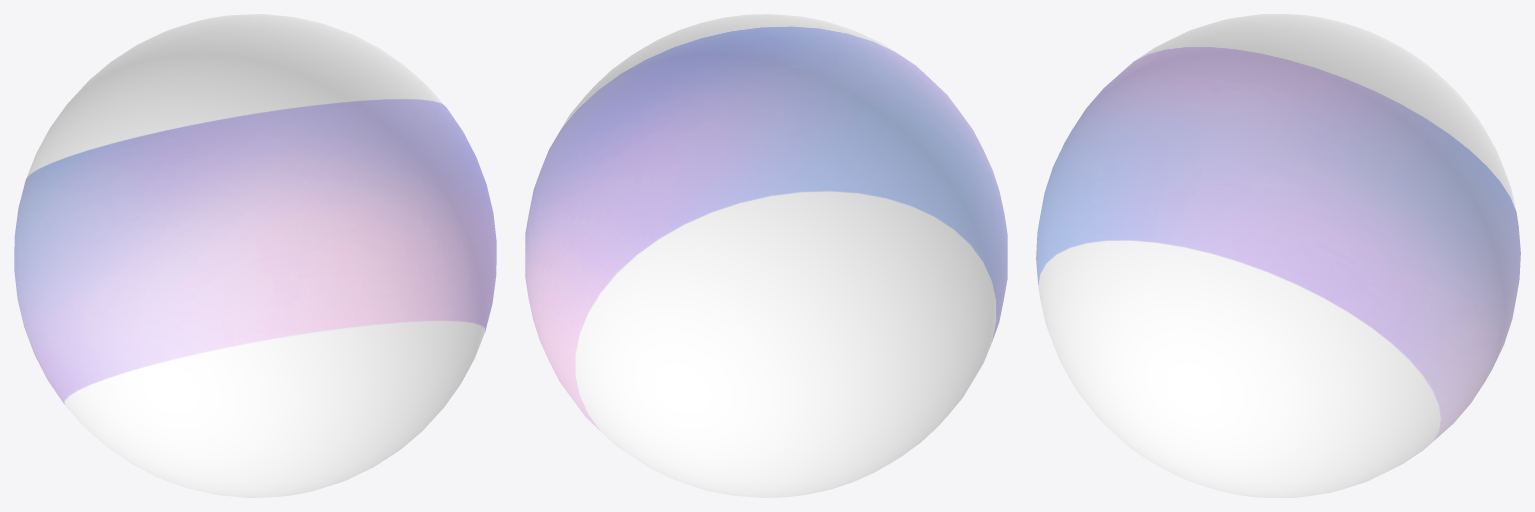
The model's file is l2a_pulse.glb.
The picture shows the model from 3 angles, left to right: view 1: azimuth 30°, elevation 25°; view 2: azimuth 150°, elevation 25°; view 3: azimuth 270°, elevation 25°; orthographic projection.
Parts seen in each view (by area): view 1: pulse; view 2: pulse; view 3: pulse.
Boxes of the visible parts, x1,y1,x2,y2 form: pulse: (14,14,496,497); pulse: (525,14,1007,497); pulse: (1036,14,1520,497).
Bounding box in the file's own units: 1.95 × 1.95 × 1.95.
Materials: 1 (1 with a texture image).
